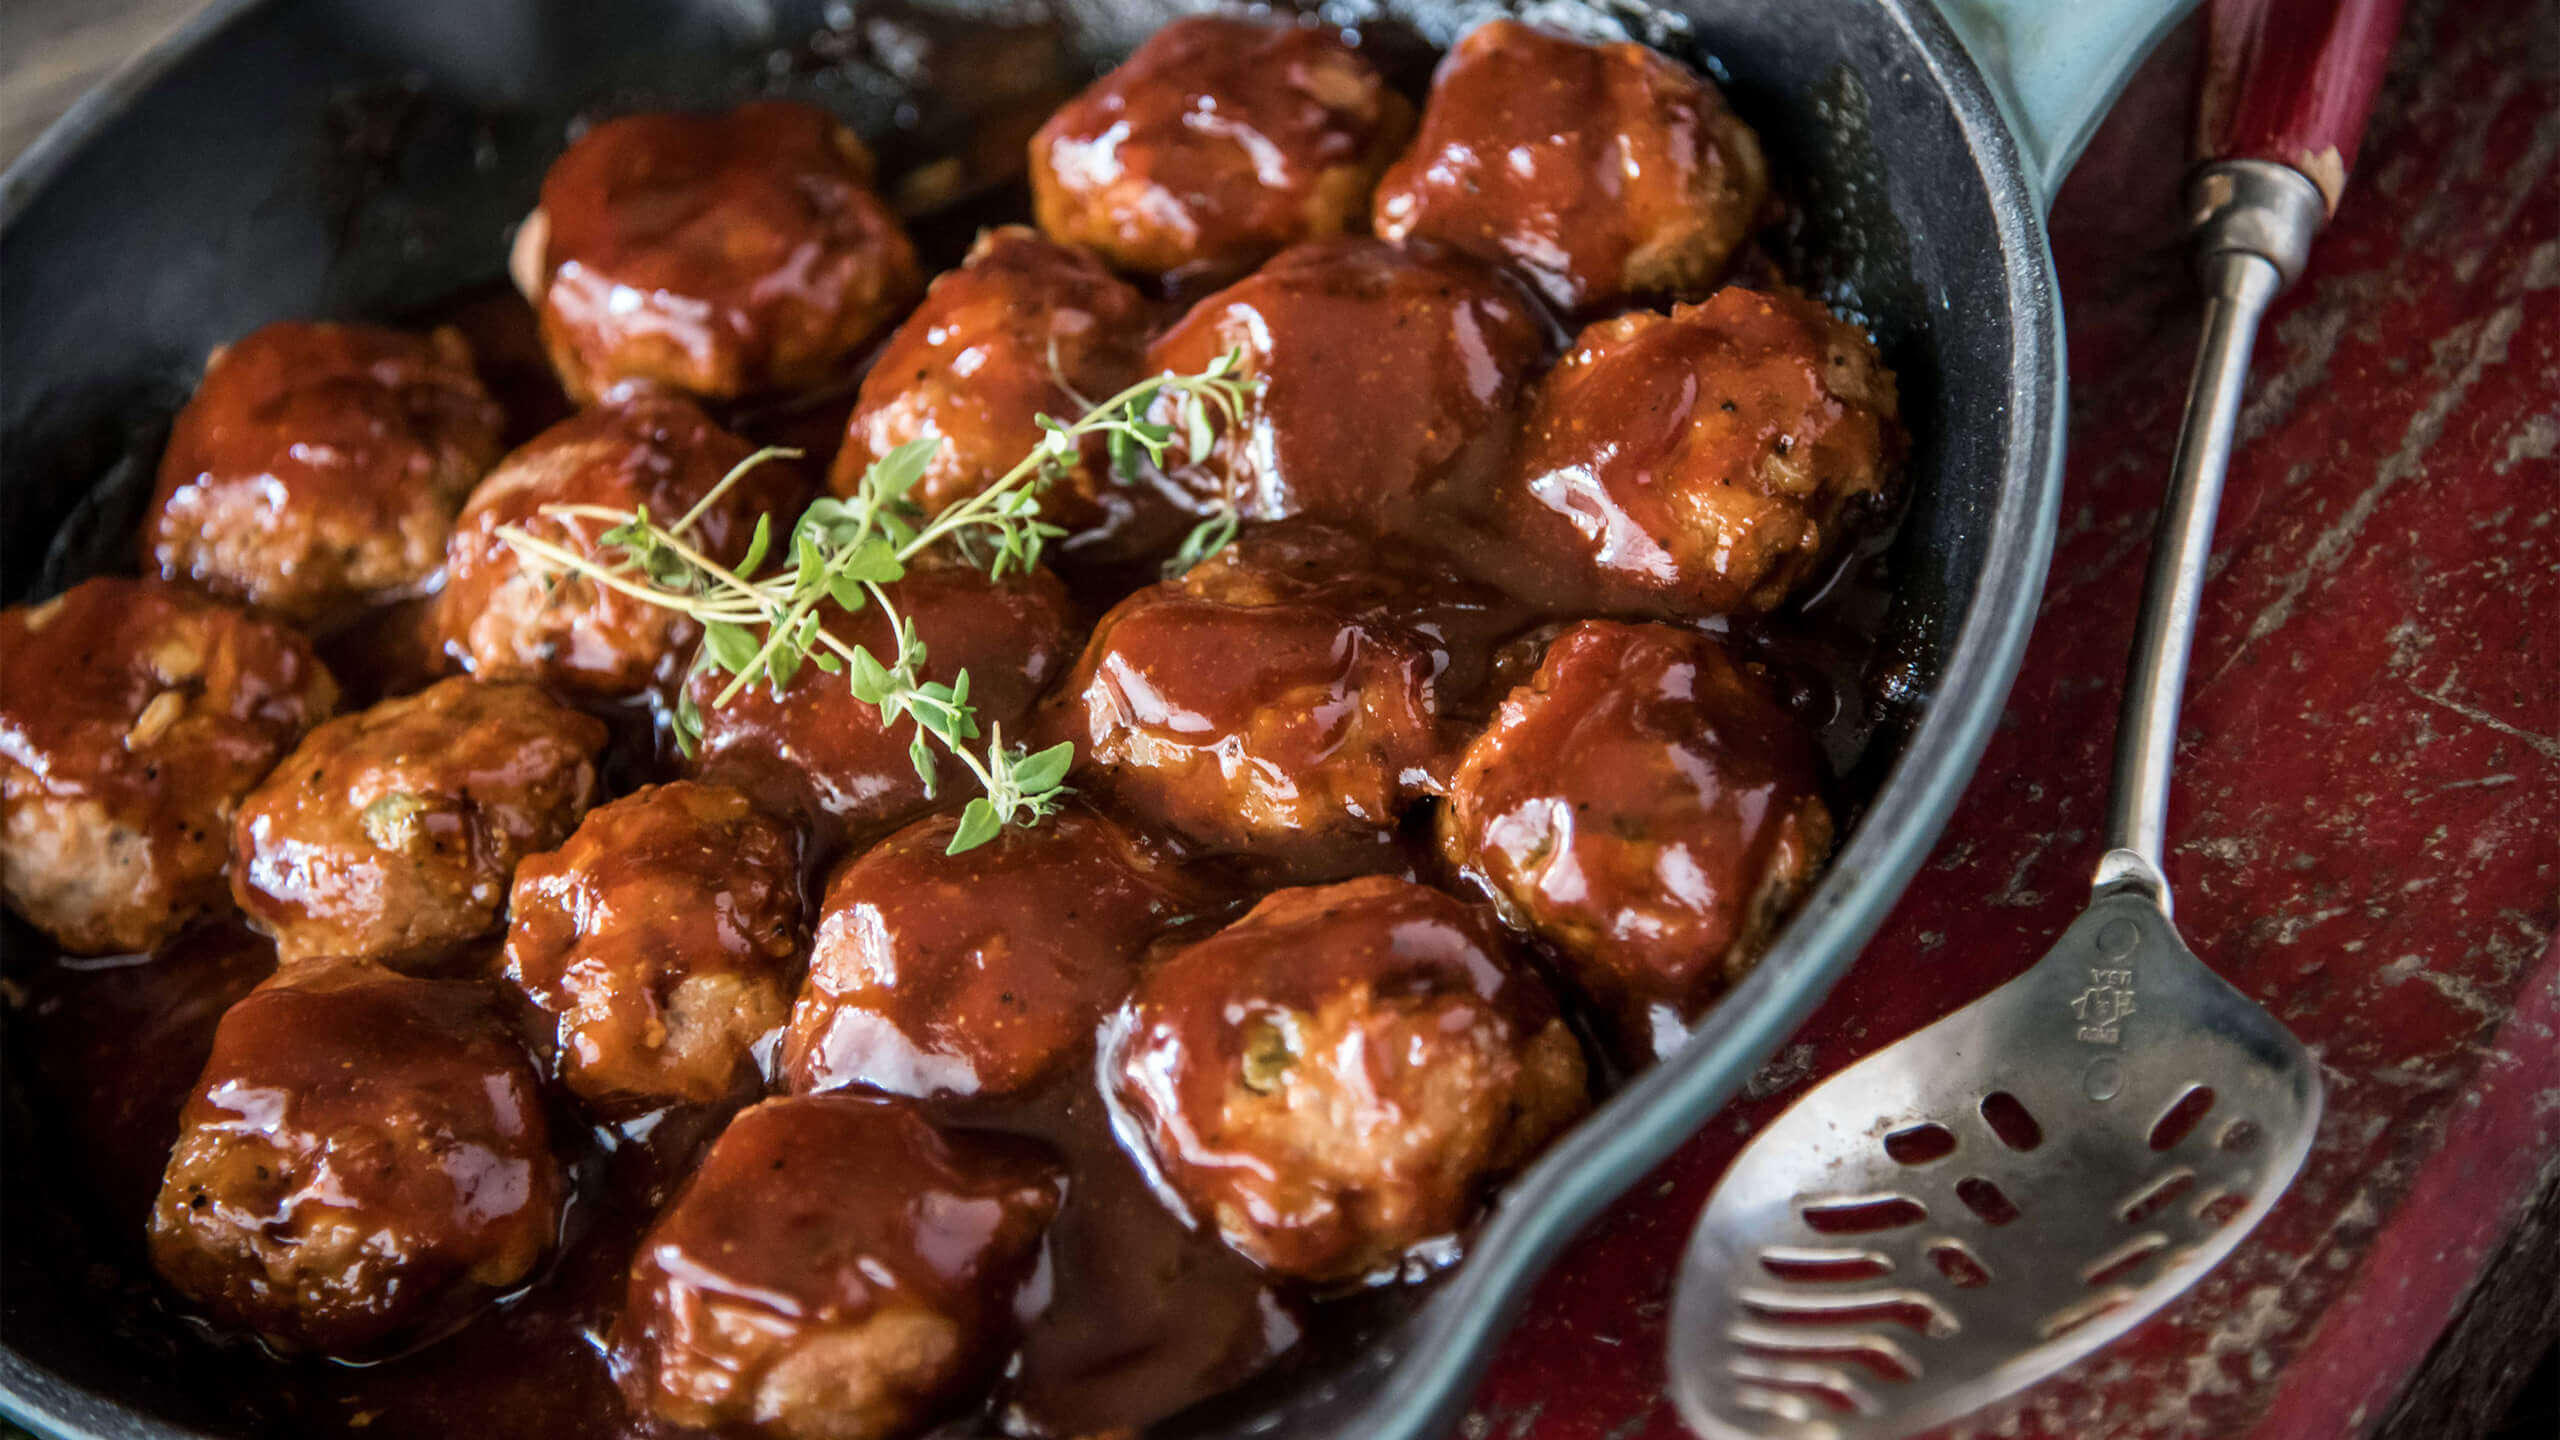meatballs: (55, 40, 1758, 1387)
